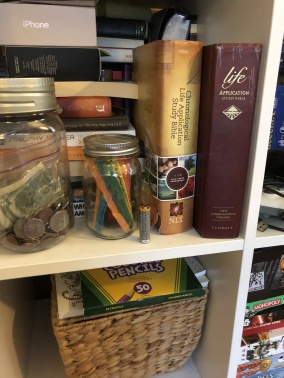battery: (126, 201, 165, 248)
